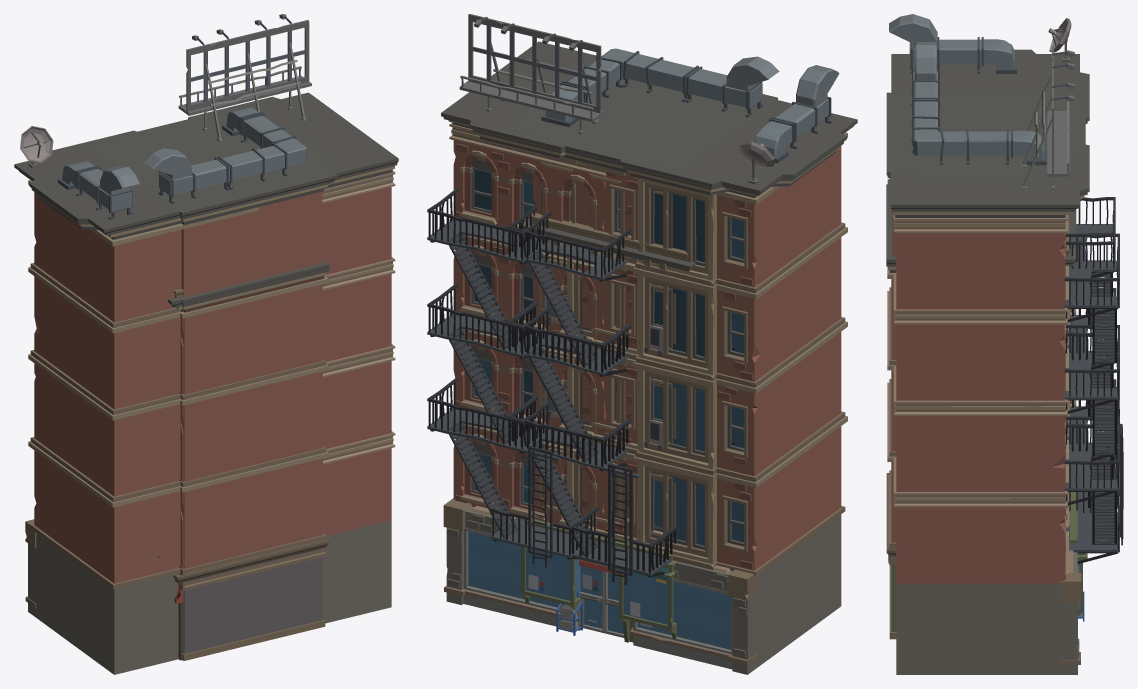
Rendered from 3dStreetModels.glb.
3 views of the same model, side by side, from view 1: azimuth 30°, elevation 25°; view 2: azimuth 150°, elevation 25°; view 3: azimuth 270°, elevation 25° (orthographic). The views are drawn at different scales.
Visible parts, largest first — view 1: building_03, building_01, building_02, building_5, building_04; view 2: building_03, building_02, building_5, building_04, building_01; view 3: building_03, building_02, building_5, building_04, building_01.
Boxes of the visible parts, bbox=[...] form: building_03: bbox=[14, 14, 398, 674]; building_01: bbox=[182, 268, 328, 660]; building_02: bbox=[92, 107, 337, 653]; building_5: bbox=[158, 261, 329, 660]; building_04: bbox=[182, 261, 329, 303]; building_03: bbox=[427, 14, 857, 674]; building_02: bbox=[506, 48, 779, 623]; building_5: bbox=[507, 215, 735, 585]; building_04: bbox=[521, 213, 682, 642]; building_01: bbox=[548, 252, 637, 635]; building_03: bbox=[889, 14, 1123, 674]; building_02: bbox=[886, 42, 1119, 565]; building_5: bbox=[886, 179, 1120, 556]; building_04: bbox=[886, 184, 1087, 631]; building_01: bbox=[886, 263, 1084, 639].
Bounding box in the file's own units: 10.9 × 18.56 × 7.07.
1 material, 1 textured.
